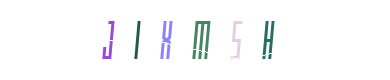1: (120, 0, 200, 80)
5: (173, 0, 253, 80)
H: (173, 0, 253, 80)
J: (69, 0, 149, 80)
M: (163, 0, 243, 80)
X: (155, 0, 235, 80)
